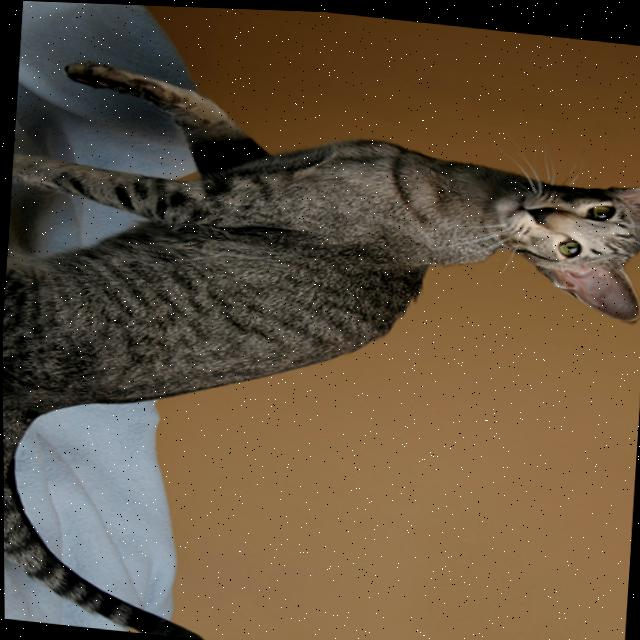Oriental: (0, 49, 640, 640)
